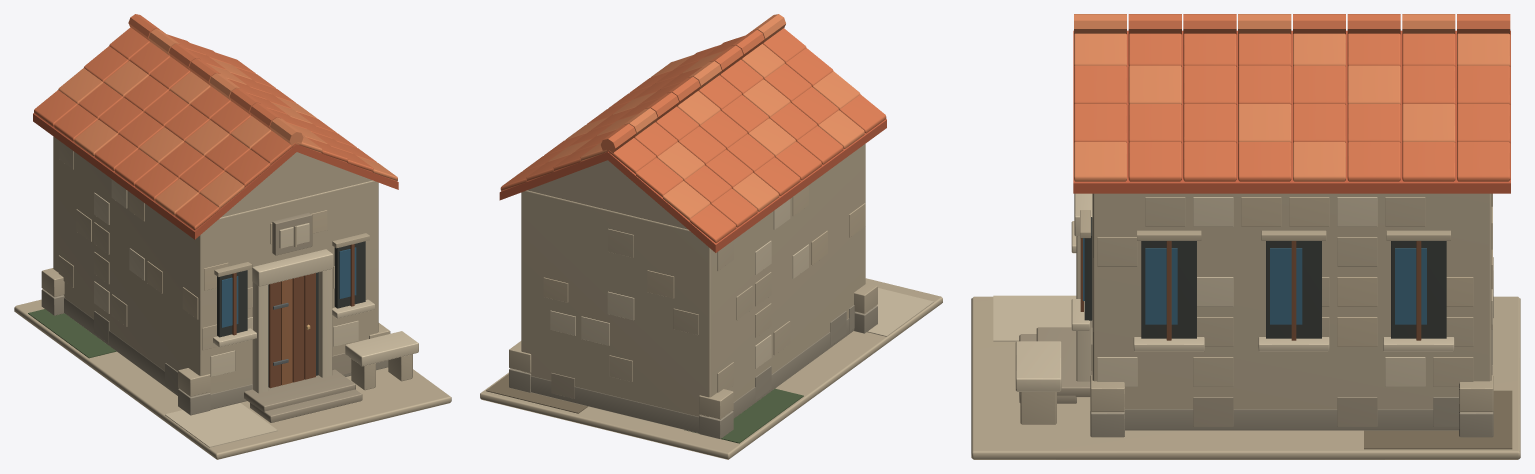
File: school.glb
3 views of the same model, side by side, from view 1: azimuth 30°, elevation 25°; view 2: azimuth 150°, elevation 25°; view 3: azimuth 270°, elevation 25° (orthographic). The views are drawn at different scales.
Visible parts, largest first — view 1: school; view 2: school; view 3: school.
Boxes of the visible parts, x1,y1,x2,y2 form: school: (14, 14, 451, 459); school: (480, 14, 942, 459); school: (971, 14, 1520, 459).
Size of the model in its own units: 1.92 by 2.12 by 2.86.
